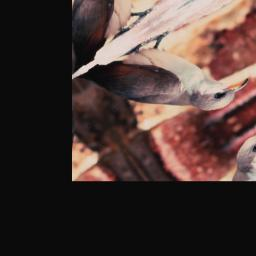Cuckoo: (76, 1, 255, 163)
